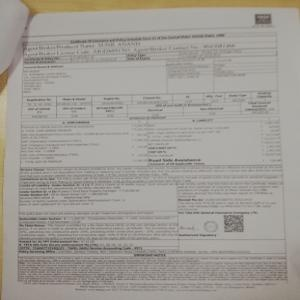image: (254, 9, 274, 28)
table: (20, 31, 279, 114), (18, 117, 283, 166)
text: (19, 254, 290, 292)
